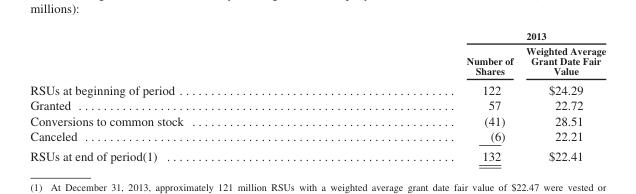table: (29, 29, 605, 162)
table column: (29, 29, 324, 162), (324, 29, 519, 162), (519, 29, 605, 162)
table column header: (29, 29, 605, 79)
table row: (29, 42, 605, 79), (29, 79, 605, 97), (29, 127, 605, 145), (29, 145, 605, 162), (29, 97, 605, 112), (29, 112, 605, 127), (29, 29, 605, 42)
table spanning cell: (324, 29, 605, 42)
